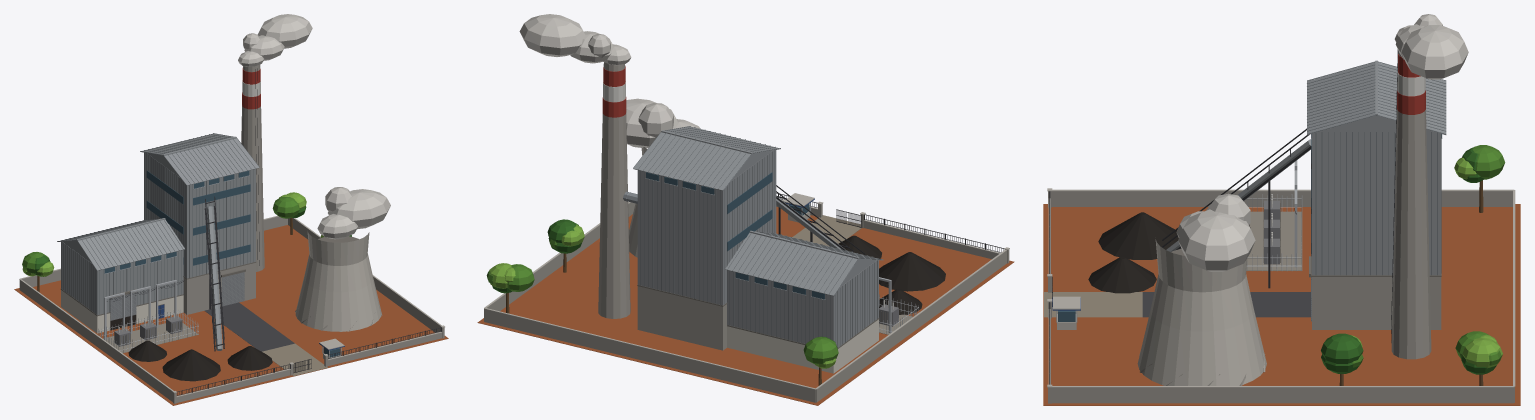
File: power_plant.glb
The picture shows the model from 3 angles, left to right: view 1: azimuth 30°, elevation 25°; view 2: azimuth 150°, elevation 25°; view 3: azimuth 270°, elevation 25°; orthographic projection. The views are drawn at different scales.
Visible parts, largest first — view 1: body, windows; view 2: body, windows; view 3: body.
Boxes of the visible parts, x1,y1,x2,y2 form: body: [14, 14, 448, 405]; windows: [104, 170, 340, 357]; body: [477, 14, 1014, 405]; windows: [646, 172, 824, 299]; body: [1043, 14, 1520, 405].
Bounding box in the file's own units: 48.7 × 38.98 × 47.9.
